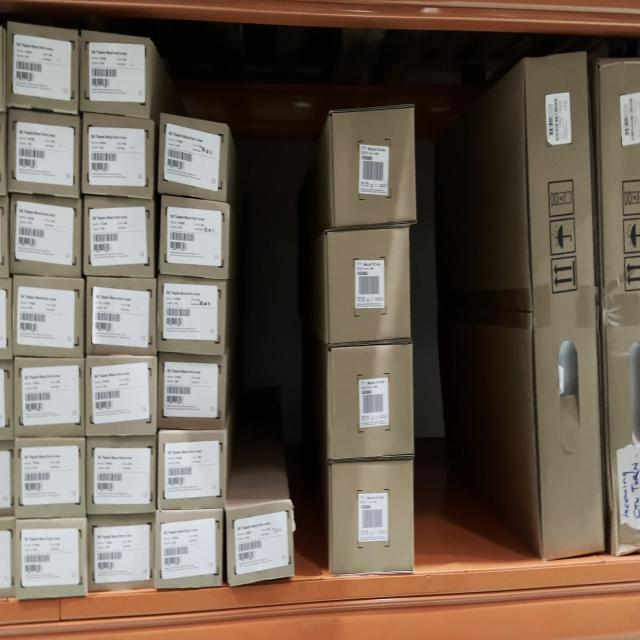box: (523, 55, 609, 560), (331, 106, 417, 224), (326, 228, 408, 347), (330, 459, 414, 575), (329, 350, 416, 458), (9, 16, 80, 108), (86, 192, 159, 278), (10, 191, 83, 273), (158, 273, 228, 357), (78, 34, 154, 110), (84, 110, 154, 192), (17, 517, 87, 597), (87, 272, 157, 352), (159, 350, 227, 432), (15, 358, 86, 436), (15, 274, 84, 354), (88, 513, 158, 591), (160, 118, 224, 202), (15, 442, 89, 514), (9, 113, 80, 188), (88, 356, 158, 428), (160, 202, 228, 276), (88, 437, 160, 505), (156, 431, 222, 504), (228, 508, 292, 576), (158, 516, 221, 576)
